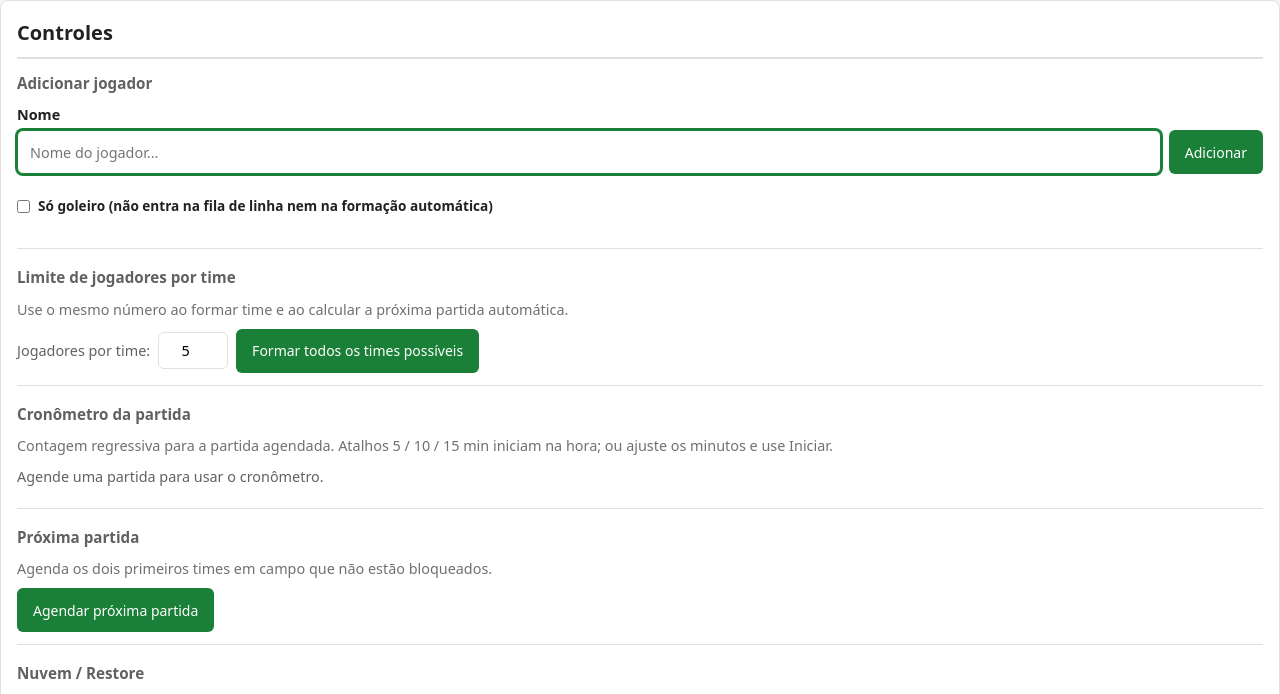
it: Adicionar jogador › shows an inline error when the name is empty
Click the button with test id "add-player-submit" at x=1216, y=152, box [1169,130,1263,174]
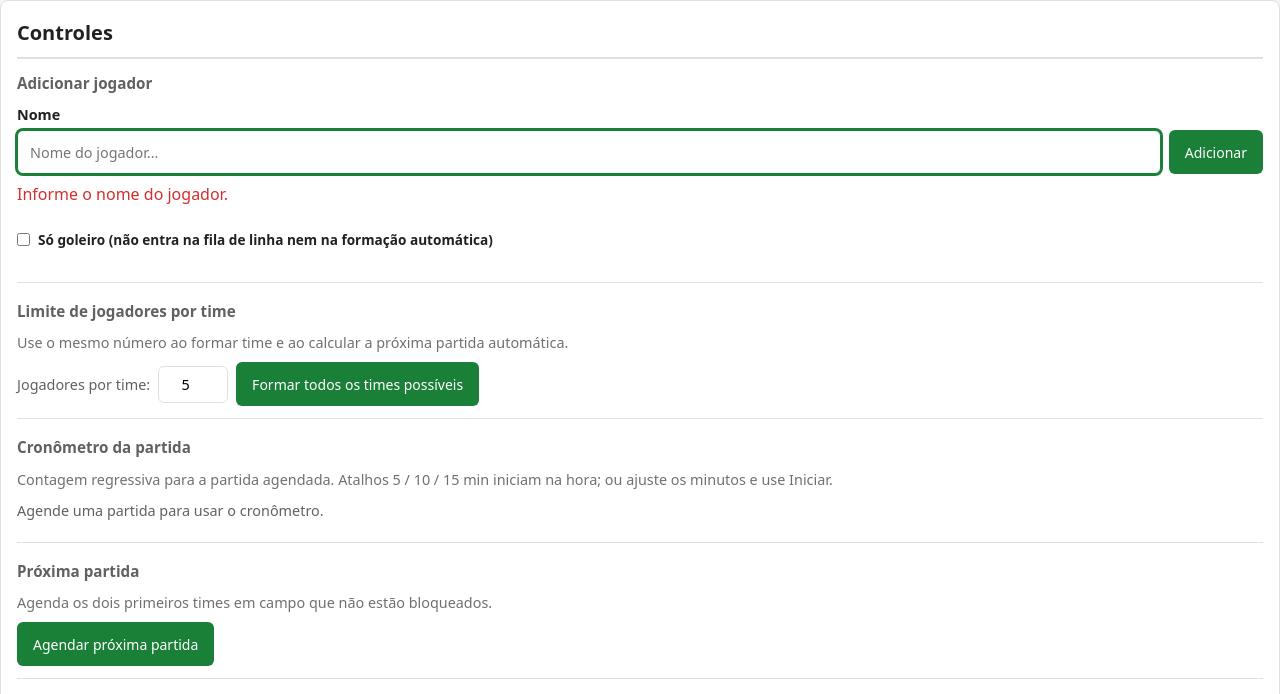
Expected: the message with id "add-player-error" reads "Informe o nome do jogador.", [17,183,228,205]
